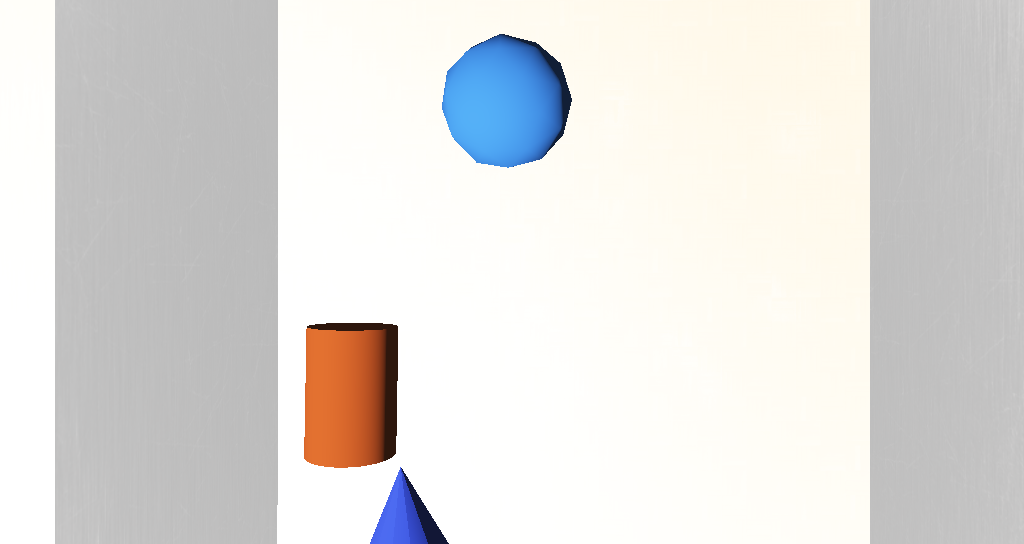cone: (364, 286, 418, 334)
cylinder: (377, 329, 458, 387)
sphere: (441, 186, 502, 234)
